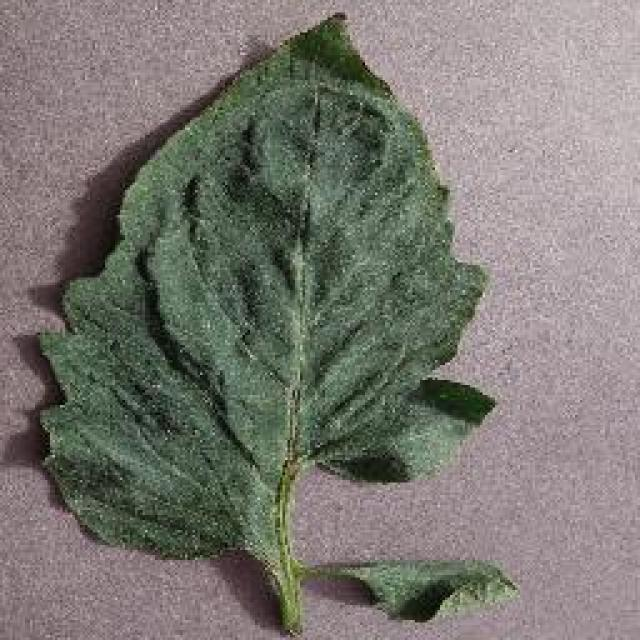Tomato Septoria spot leaf: (30, 15, 488, 560), (311, 555, 521, 625)
